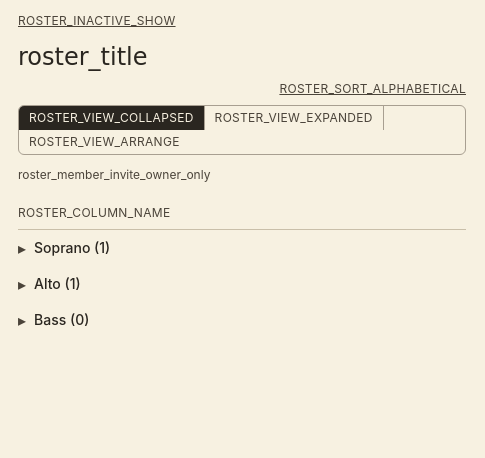
Test case: #205 — /roster arrange: whole-field rename activator › a rename through the whole-field activator still saves via renameSection, and the new name shows back inside the button
This screenshot has width=485, height=458.
Click the button "roster_view_arrange": (104, 142) [19, 130, 190, 154]
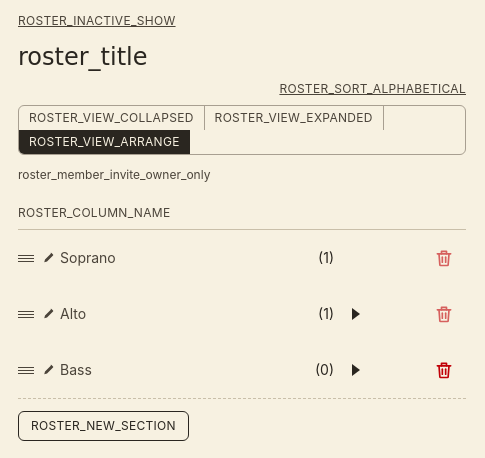
Click the button with test id "arrange-rename-sec-alto": (176, 314) [42, 292, 310, 336]
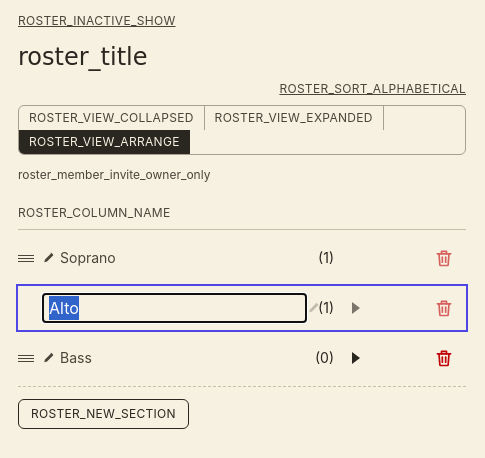
Replace the text in the field named "roster_section_name_label" with "Alto Voices": (174, 308) [42, 293, 307, 323]
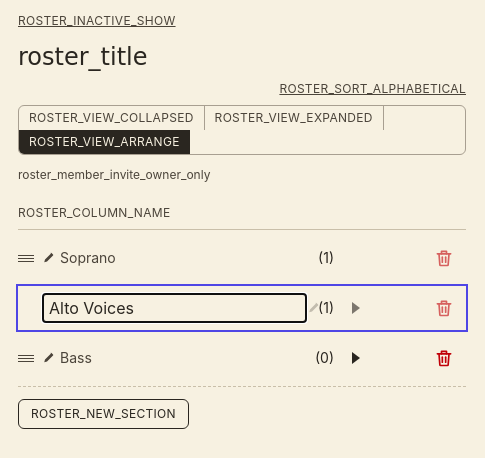
Press Enter in the field named "roster_section_name_label", box [42, 293, 307, 323]
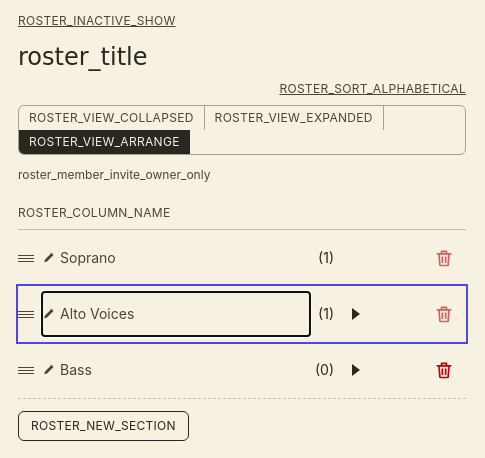
Check: the button with test id "arrange-rename-sec-alto" reads "Alto Voices", box [42, 292, 310, 336]
